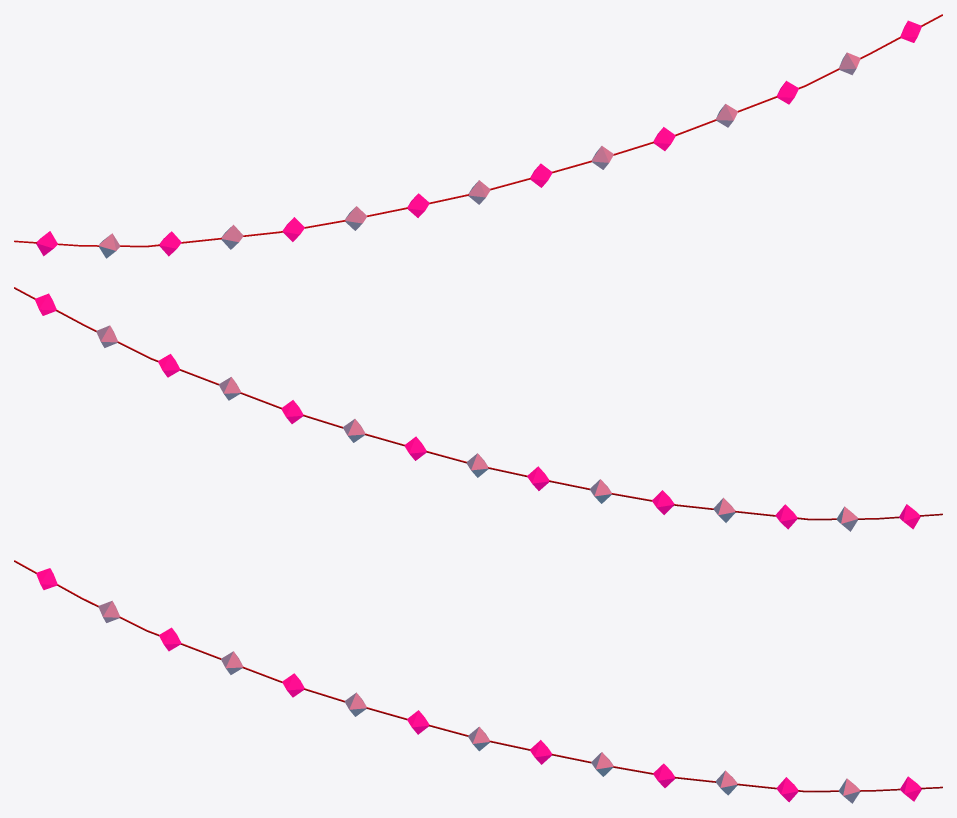
File: Garland_Curve_Blue_Purple.glb
3 views of the same model, one above another, from view 1: azimuth 30°, elevation 25°; view 2: azimuth 150°, elevation 25°; view 3: azimuth 330°, elevation 25° (orthographic).
Visible parts, largest first — view 1: garlandCurve2; view 2: garlandCurve2; view 3: garlandCurve2.
Part boxes in pixels (x1=…): garlandCurve2: x1=14, y1=14, x2=942, y2=258; garlandCurve2: x1=14, y1=287, x2=942, y2=531; garlandCurve2: x1=14, y1=560, x2=942, y2=803.
Size of what is drawn, in the model's own units: 15.03 by 1.24 by 0.3813.
